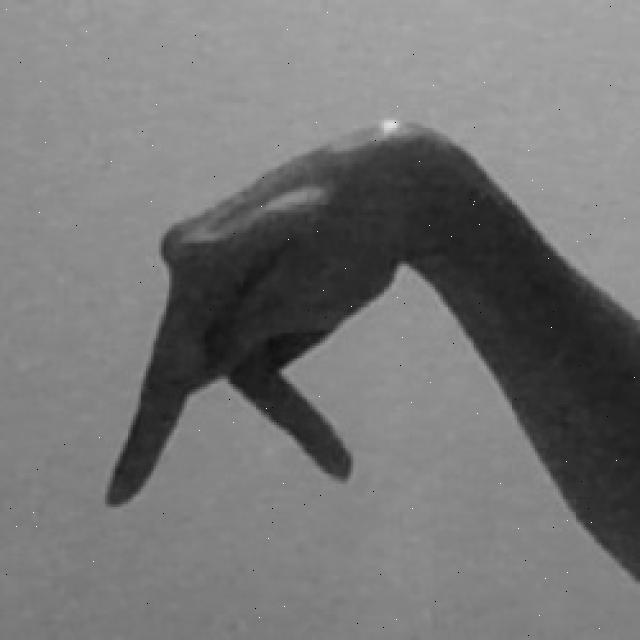P: (97, 112, 640, 590)
